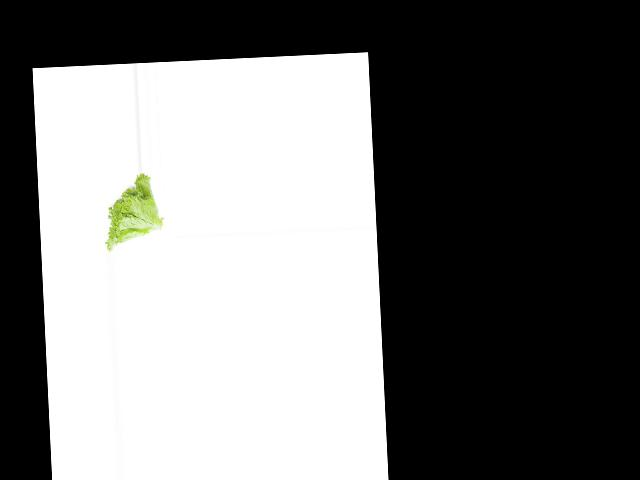lettuce: (100, 171, 163, 252)
